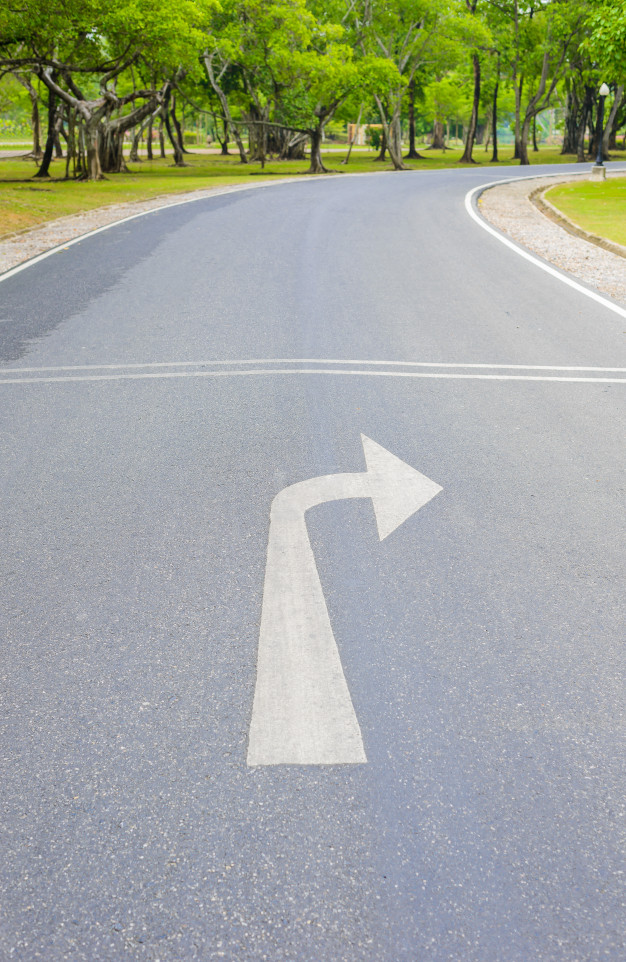right: (231, 423, 463, 784)
